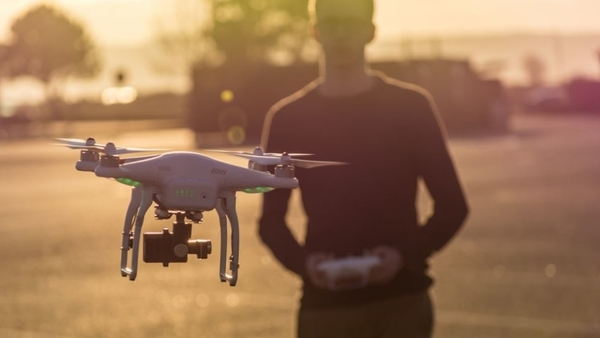drone: (50, 130, 350, 289)
